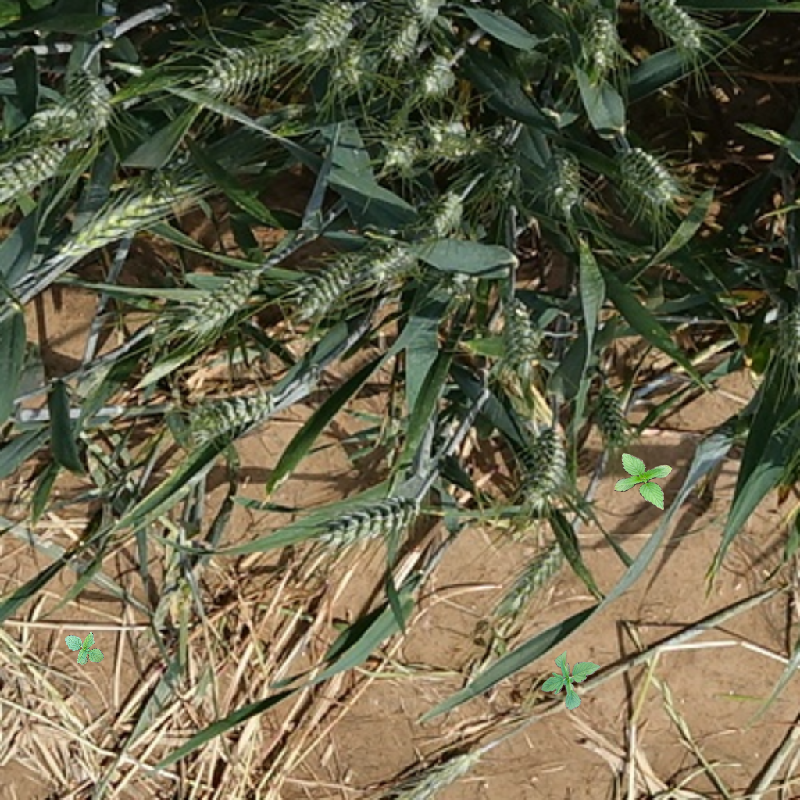spikelet: (61, 160, 227, 259), (1, 121, 79, 206), (312, 495, 419, 551), (174, 267, 259, 332), (500, 538, 566, 616), (182, 390, 271, 442), (390, 748, 478, 799), (296, 250, 361, 318), (518, 426, 565, 515), (205, 42, 282, 96), (615, 145, 675, 205), (637, 1, 702, 52), (66, 65, 114, 133), (496, 296, 537, 369), (299, 1, 359, 50), (421, 117, 482, 163), (579, 7, 620, 74), (364, 243, 419, 286), (542, 148, 580, 209), (596, 385, 632, 448), (417, 50, 457, 100), (772, 300, 799, 370), (425, 190, 463, 238), (329, 40, 367, 86), (489, 151, 515, 210), (382, 132, 417, 175), (409, 1, 452, 35), (387, 18, 418, 64)
weed: (541, 650, 601, 710), (614, 453, 673, 510), (58, 621, 113, 675)
